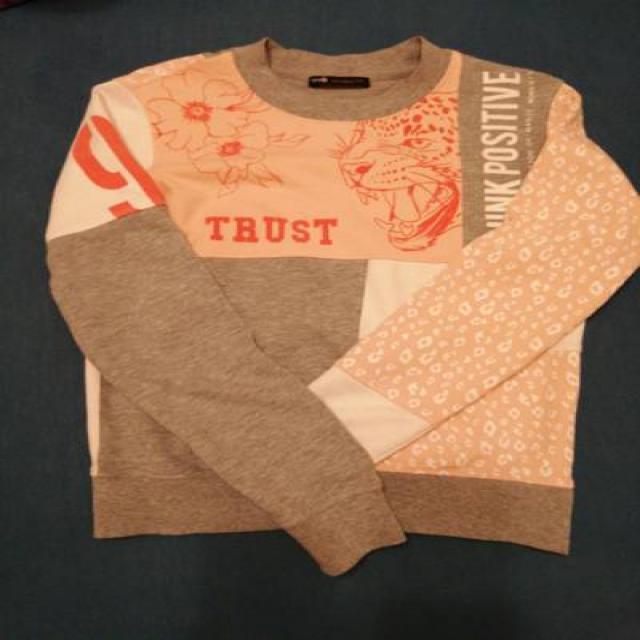Clothes -Biodegradable-: (35, 30, 640, 567)
